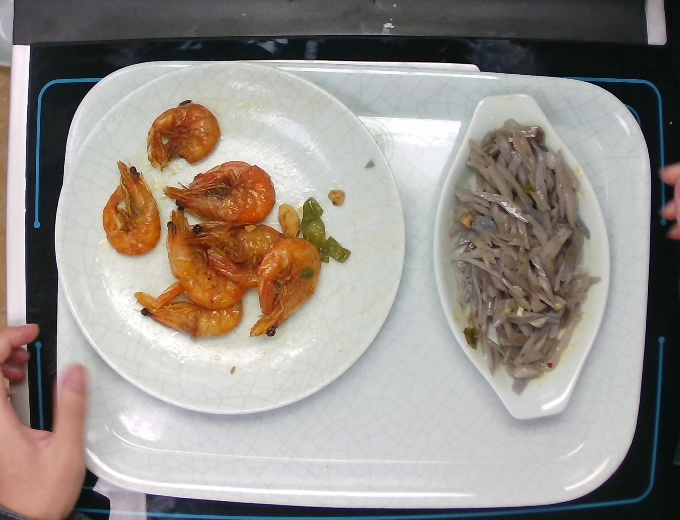JYsf-Da_Yuan_Pan: (52, 60, 408, 416)
JYsf-Yu_Pan: (431, 91, 612, 421)
